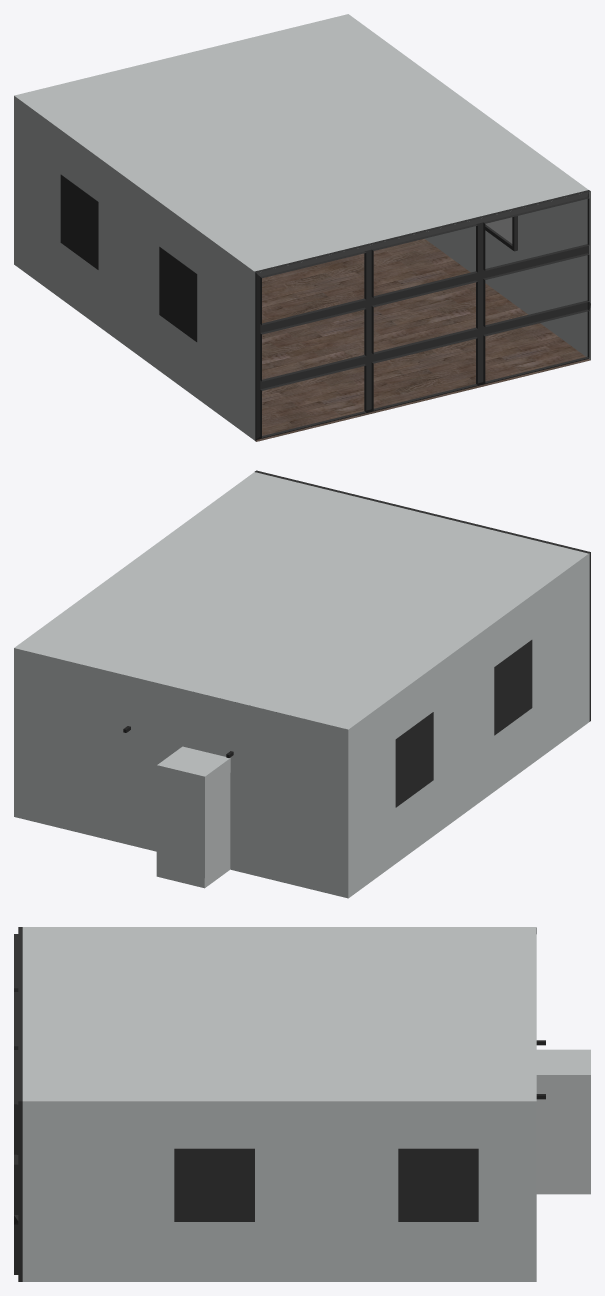
The model's file is white-room.glb.
3 renders of one model, top to bottom at view 1: azimuth 30°, elevation 25°; view 2: azimuth 150°, elevation 25°; view 3: azimuth 270°, elevation 25°, orthographic. The views are drawn at different scales.
Visible parts, largest first — view 1: Object_4, Object_7, Object_5, Object_10; view 2: Object_7, Object_4, Object_10; view 3: Object_4, Object_7, Object_10.
Boxes of the visible parts, x1=… form: Object_4: x1=14, y1=14, x2=588, y2=271; Object_7: x1=14, y1=96, x2=590, y2=440; Object_5: x1=256, y1=238, x2=590, y2=441; Object_10: x1=60, y1=174, x2=590, y2=441; Object_7: x1=14, y1=553, x2=589, y2=898; Object_4: x1=14, y1=472, x2=588, y2=729; Object_10: x1=254, y1=470, x2=590, y2=807; Object_4: x1=22, y1=927, x2=536, y2=1101; Object_7: x1=22, y1=1049, x2=590, y2=1281; Object_10: x1=14, y1=927, x2=478, y2=1281.
Bounding box in the file's own units: 5.79 × 2.79 × 8.09.
Materials: 8 (4 with a texture image).
